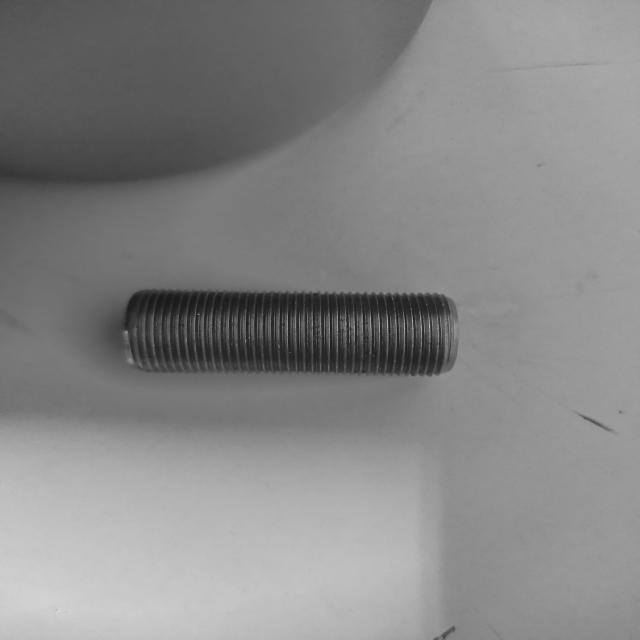Normal: (124, 287, 458, 378)
